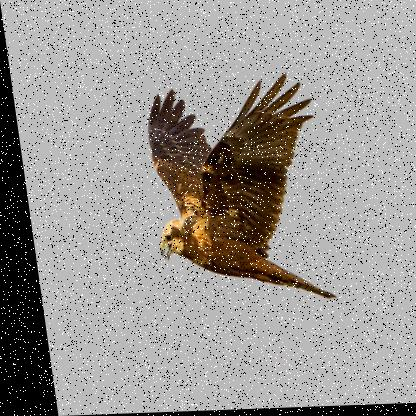Burung: (132, 75, 327, 306)
